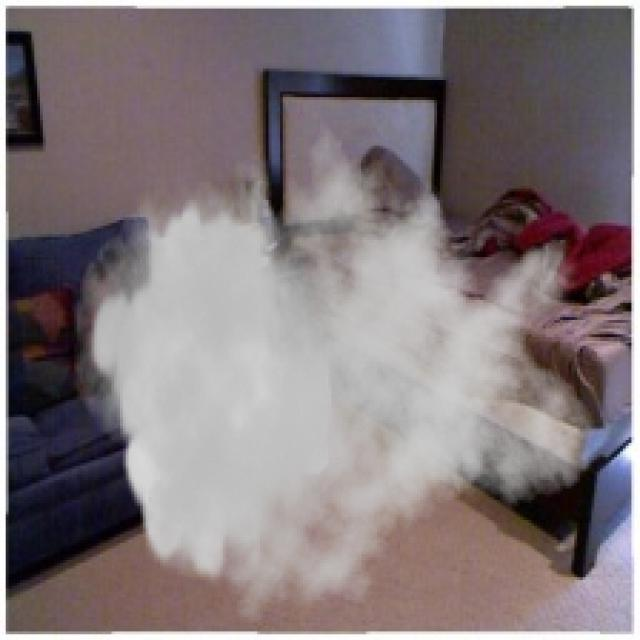smoke: (72, 100, 597, 631)
